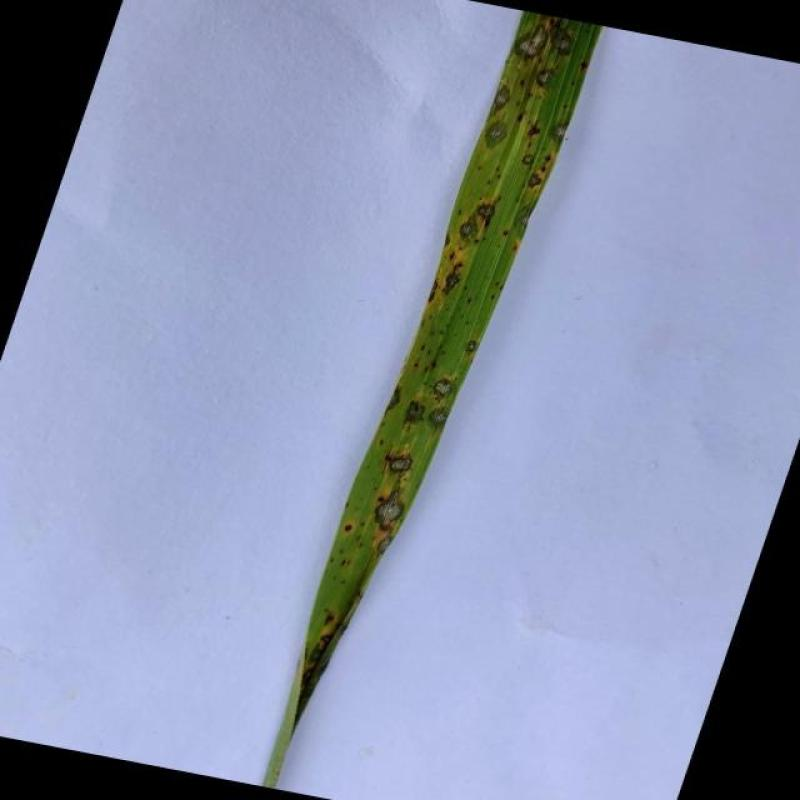Leaf_Blast: (372, 478, 407, 532), (514, 22, 550, 60), (440, 258, 464, 297), (384, 451, 415, 479), (401, 400, 429, 428), (486, 84, 514, 111), (431, 376, 459, 402), (485, 119, 507, 149), (555, 31, 576, 60), (385, 385, 404, 416), (374, 532, 396, 556), (429, 402, 450, 426), (458, 218, 477, 244), (477, 200, 495, 225), (536, 65, 556, 87), (551, 123, 569, 142), (526, 120, 542, 141), (525, 172, 541, 192), (428, 282, 440, 306), (522, 150, 536, 169), (464, 337, 478, 355), (523, 154, 535, 166)
